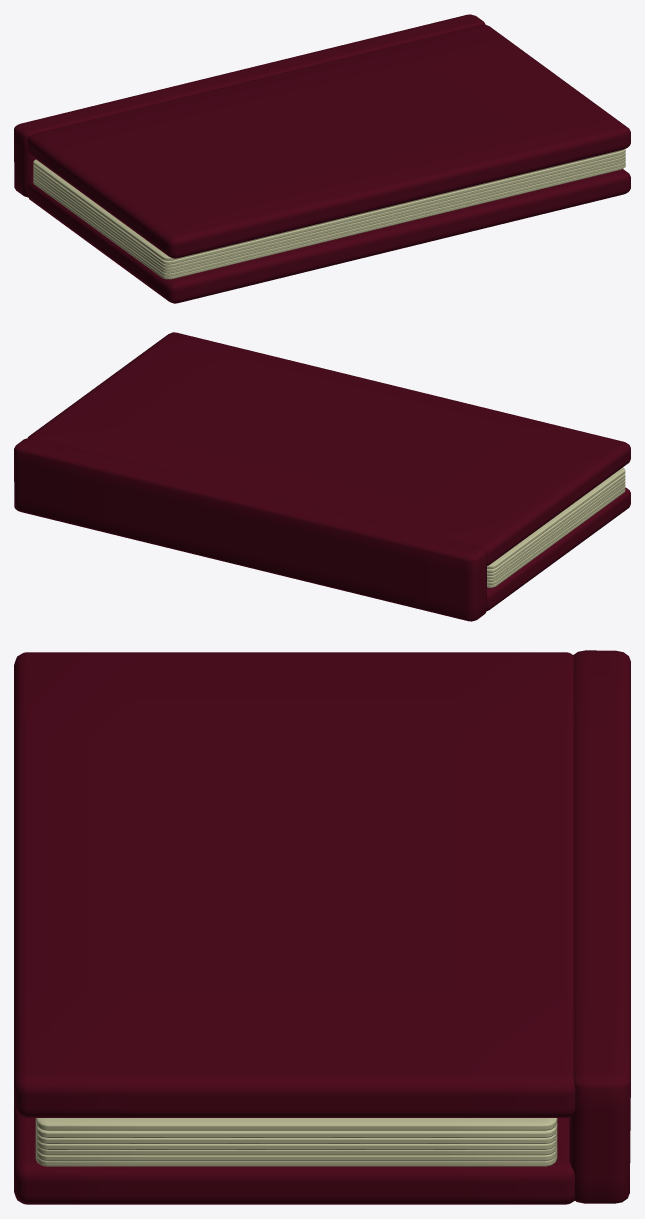
File: book8.FBX
3 renders of one model, top to bottom at view 1: azimuth 30°, elevation 25°; view 2: azimuth 150°, elevation 25°; view 3: azimuth 270°, elevation 25°, orthographic. The views are drawn at different scales.
Visible parts, largest first — view 1: ChamferBox003, ChamferBox002, ChamferBox001, ChamferBox008, ChamferBox009, ChamferBox006, ChamferBox005, ChamferBox004, ChamferBox007, ChamferBox010; view 2: ChamferBox003, ChamferBox001, ChamferBox002, ChamferBox010, ChamferBox008, ChamferBox009, ChamferBox006, ChamferBox005, ChamferBox004, ChamferBox007; view 3: ChamferBox003, ChamferBox001, ChamferBox002, ChamferBox010, ChamferBox008, ChamferBox005, ChamferBox009, ChamferBox006, ChamferBox004, ChamferBox007.
Boxes of the visible parts, x1=… form: ChamferBox003: x1=27, y1=24, x2=630, y2=258; ChamferBox002: x1=27, y1=169, x2=630, y2=303; ChamferBox001: x1=14, y1=14, x2=485, y2=197; ChamferBox008: x1=33, y1=149, x2=625, y2=264; ChamferBox009: x1=33, y1=152, x2=625, y2=267; ChamferBox006: x1=33, y1=155, x2=625, y2=270; ChamferBox005: x1=33, y1=161, x2=625, y2=276; ChamferBox004: x1=33, y1=164, x2=625, y2=279; ChamferBox007: x1=33, y1=158, x2=625, y2=273; ChamferBox010: x1=33, y1=149, x2=623, y2=260; ChamferBox003: x1=28, y1=332, x2=630, y2=565; ChamferBox001: x1=14, y1=438, x2=486, y2=621; ChamferBox002: x1=487, y1=487, x2=630, y2=610; ChamferBox010: x1=487, y1=467, x2=625, y2=569; ChamferBox008: x1=487, y1=473, x2=625, y2=572; ChamferBox009: x1=487, y1=477, x2=625, y2=575; ChamferBox006: x1=487, y1=480, x2=625, y2=578; ChamferBox005: x1=487, y1=486, x2=625, y2=584; ChamferBox004: x1=487, y1=489, x2=625, y2=587; ChamferBox007: x1=487, y1=483, x2=625, y2=581; ChamferBox003: x1=14, y1=652, x2=575, y2=1117; ChamferBox001: x1=569, y1=650, x2=630, y2=1203; ChamferBox002: x1=14, y1=1106, x2=574, y2=1204; ChamferBox010: x1=35, y1=1118, x2=557, y2=1130; ChamferBox008: x1=35, y1=1123, x2=557, y2=1137; ChamferBox005: x1=35, y1=1148, x2=557, y2=1161; ChamferBox009: x1=35, y1=1130, x2=557, y2=1143; ChamferBox006: x1=35, y1=1136, x2=557, y2=1149; ChamferBox004: x1=35, y1=1153, x2=557, y2=1166; ChamferBox007: x1=35, y1=1142, x2=557, y2=1155.
Size of the model in its own units: 33.95 by 4.68 by 20.32.
